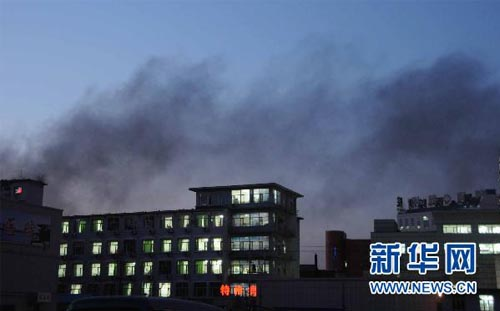smoke: (60, 73, 481, 169)
